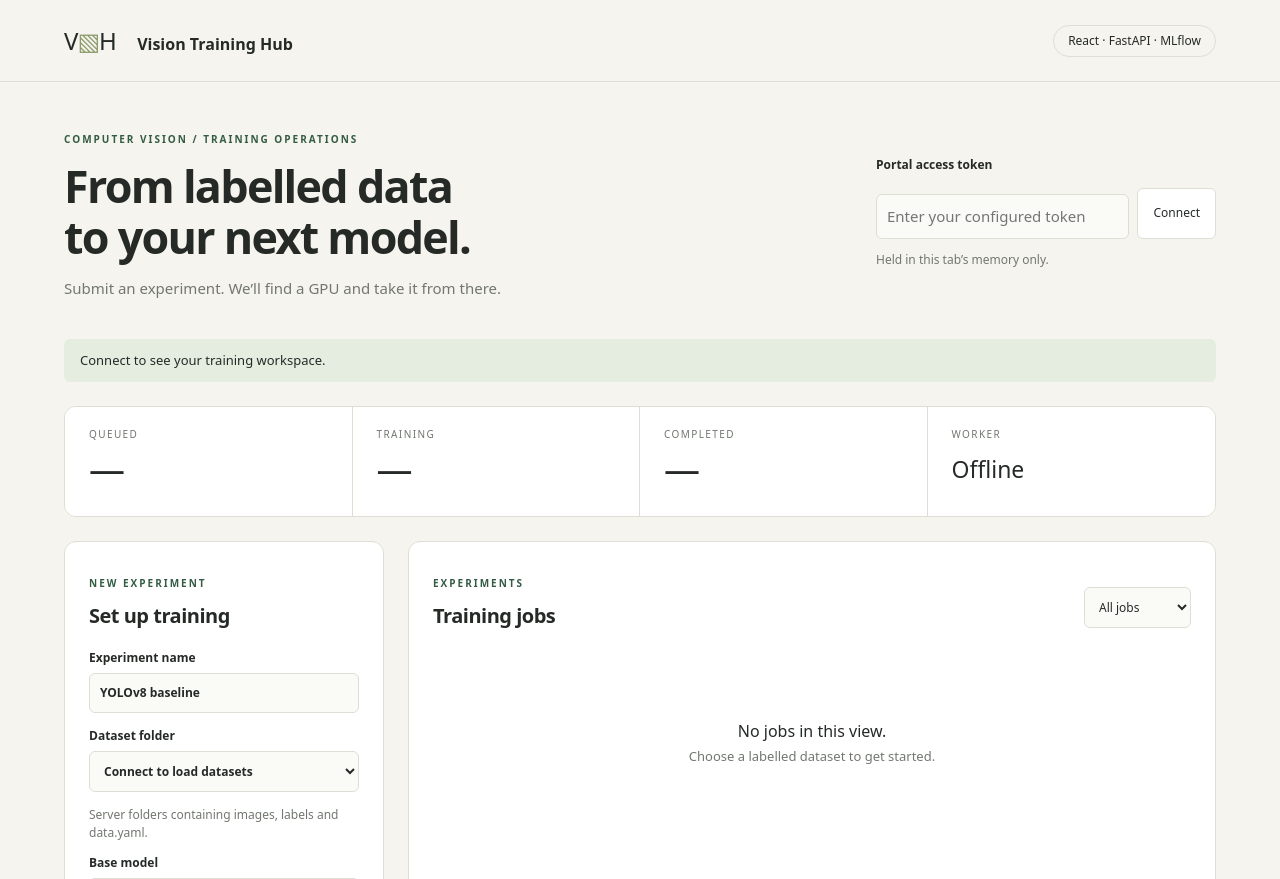
it: React training portal › surfaces authentication failures
Type "bad" into the password field labelled "Portal access token" at (1003, 216), box x1=876 y1=194 x2=1130 y2=239
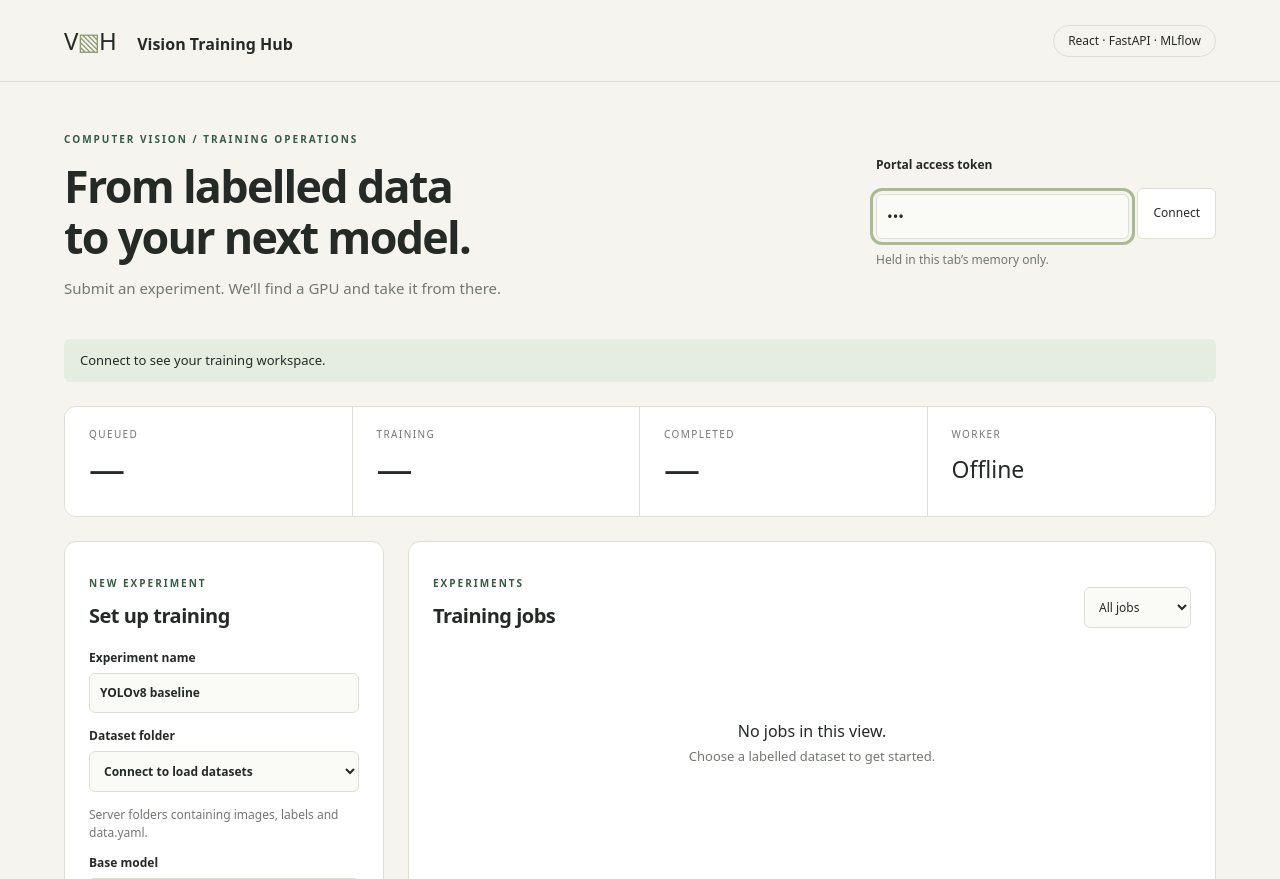
Click the button "Connect" at (1177, 213), box x1=1138 y1=188 x2=1216 y2=239
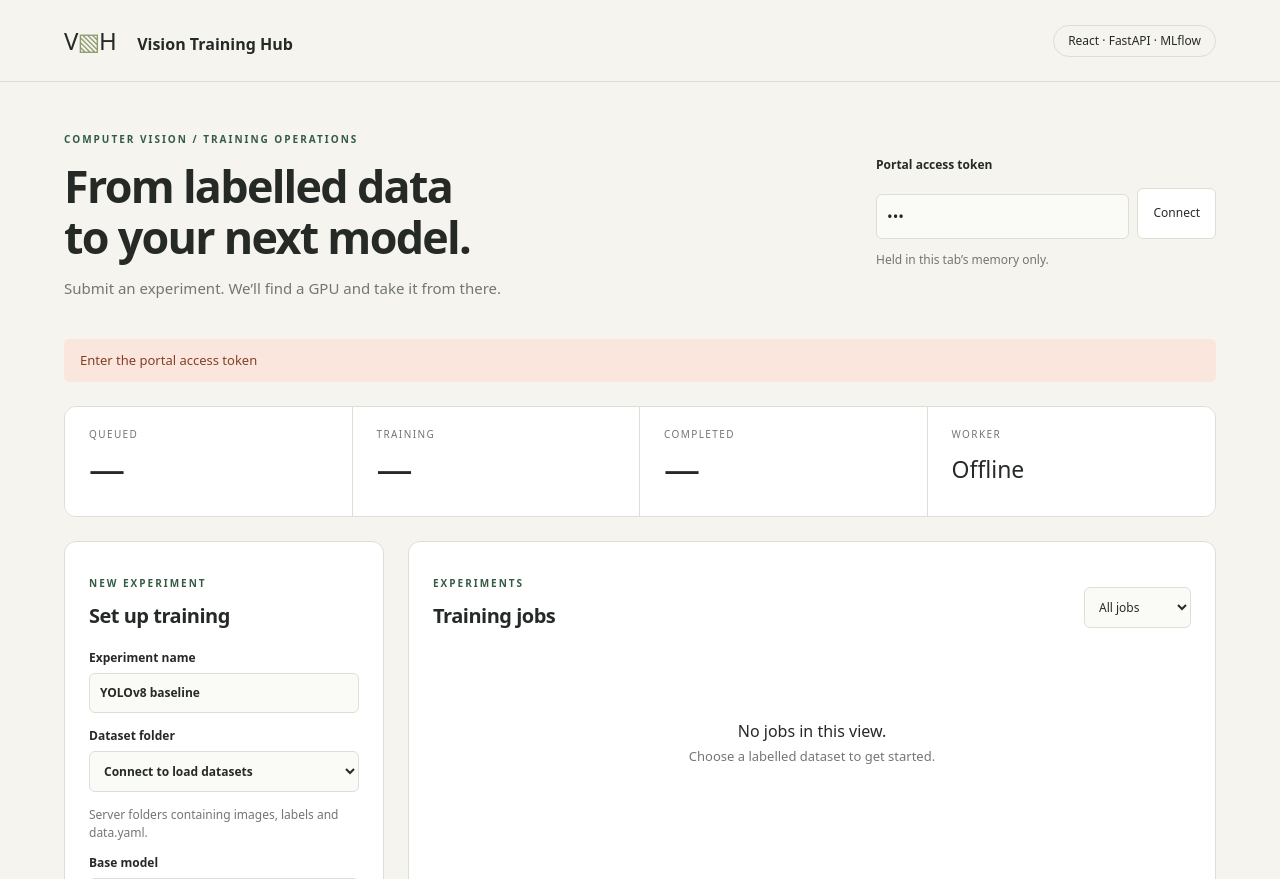
Check: the message reads "Enter the portal access token", box x1=80 y1=351 x2=257 y2=369
